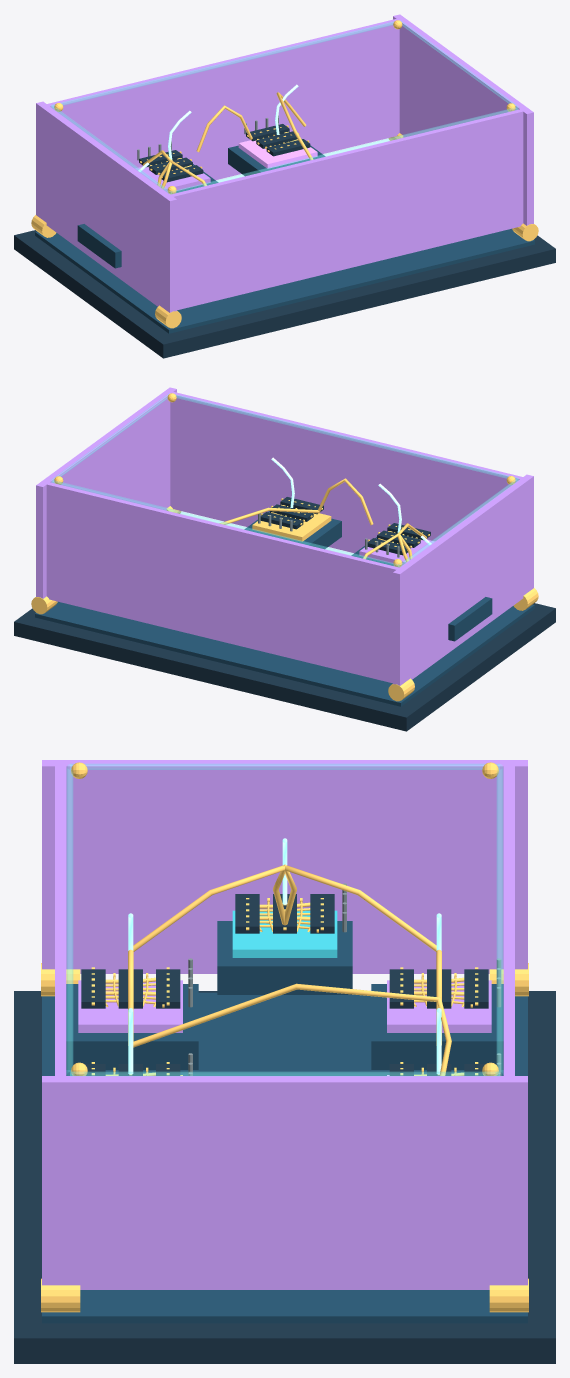
File: history-rules-v001.glb
3 renders of one model, top to bottom at view 1: azimuth 30°, elevation 25°; view 2: azimuth 150°, elevation 25°; view 3: azimuth 270°, elevation 25°, orthographic. The views are drawn at different scales.
Parts seen in each view (by area): view 1: GEO-shell-crossbar.003, GEO-shell-crossbar.002, GEO-shell-rail.002, GEO-shell-base.001, GEO-shell-deck.001, GEO-shell-rail.003, GEO-shell-glass-edge.004, GEO-shell-glass-edge.005, GEO-controller-face, GEO-input-housing, GEO-controller-housing, GEO-rule-face (+2 smaller); view 2: GEO-shell-crossbar.002, GEO-shell-crossbar.003, GEO-shell-rail.002, GEO-shell-base.001, GEO-shell-deck.001, GEO-shell-rail.003, GEO-shell-glass-edge.005, GEO-shell-glass-edge.004, GEO-output-face, GEO-input-housing, GEO-output-housing, GEO-matcher-face (+2 smaller); view 3: GEO-shell-rail.003, GEO-shell-rail.002, GEO-shell-base.001, GEO-shell-deck.001, GEO-input-housing, GEO-rule-housing, GEO-matcher-housing, GEO-shell-crossbar.002, GEO-shell-crossbar.003, GEO-input-face, GEO-matcher-face, GEO-rule-face (+9 smaller).
Boxes of the visible parts, <box> form: GEO-shell-crossbar.003: <box>165,108,528,310</box>; GEO-shell-crossbar.002: <box>41,17,404,180</box>; GEO-shell-rail.002: <box>36,101,176,312</box>; GEO-shell-base.001: <box>14,230,555,358</box>; GEO-shell-deck.001: <box>35,228,534,333</box>; GEO-shell-rail.003: <box>393,14,533,225</box>; GEO-shell-glass-edge.004: <box>51,21,393,107</box>; GEO-shell-glass-edge.005: <box>170,107,518,193</box>; GEO-controller-face: <box>238,140,317,168</box>; GEO-input-housing: <box>77,224,121,268</box>; GEO-controller-housing: <box>228,145,325,176</box>; GEO-rule-face: <box>135,167,210,192</box>; GEO-shell-crossbar.002: <box>41,481,404,683</box>; GEO-shell-crossbar.003: <box>165,390,528,553</box>; GEO-shell-rail.002: <box>393,474,533,685</box>; GEO-shell-base.001: <box>14,603,555,731</box>; GEO-shell-deck.001: <box>35,601,534,706</box>; GEO-shell-rail.003: <box>36,387,176,598</box>; GEO-shell-glass-edge.005: <box>176,394,518,480</box>; GEO-shell-glass-edge.004: <box>51,480,399,566</box>; GEO-output-face: <box>252,513,331,541</box>; GEO-input-housing: <box>448,597,492,641</box>; GEO-output-housing: <box>244,511,341,549</box>; GEO-matcher-face: <box>359,540,434,565</box>; GEO-shell-rail.003: <box>42,1076,527,1289</box>; GEO-shell-rail.002: <box>42,760,527,973</box>; GEO-shell-base.001: <box>14,991,555,1363</box>; GEO-shell-deck.001: <box>42,992,527,1323</box>; GEO-input-housing: <box>217,921,352,994</box>; GEO-rule-housing: <box>371,984,503,1069</box>; GEO-matcher-housing: <box>66,984,198,1069</box>; GEO-shell-crossbar.002: <box>503,761,514,1081</box>; GEO-shell-crossbar.003: <box>55,761,66,1081</box>; GEO-input-face: <box>232,910,337,957</box>; GEO-matcher-face: <box>78,980,182,1032</box>; GEO-rule-face: <box>387,980,491,1032</box>.
Size of the model in its own units: 8.8 by 3.27 by 5.8.
